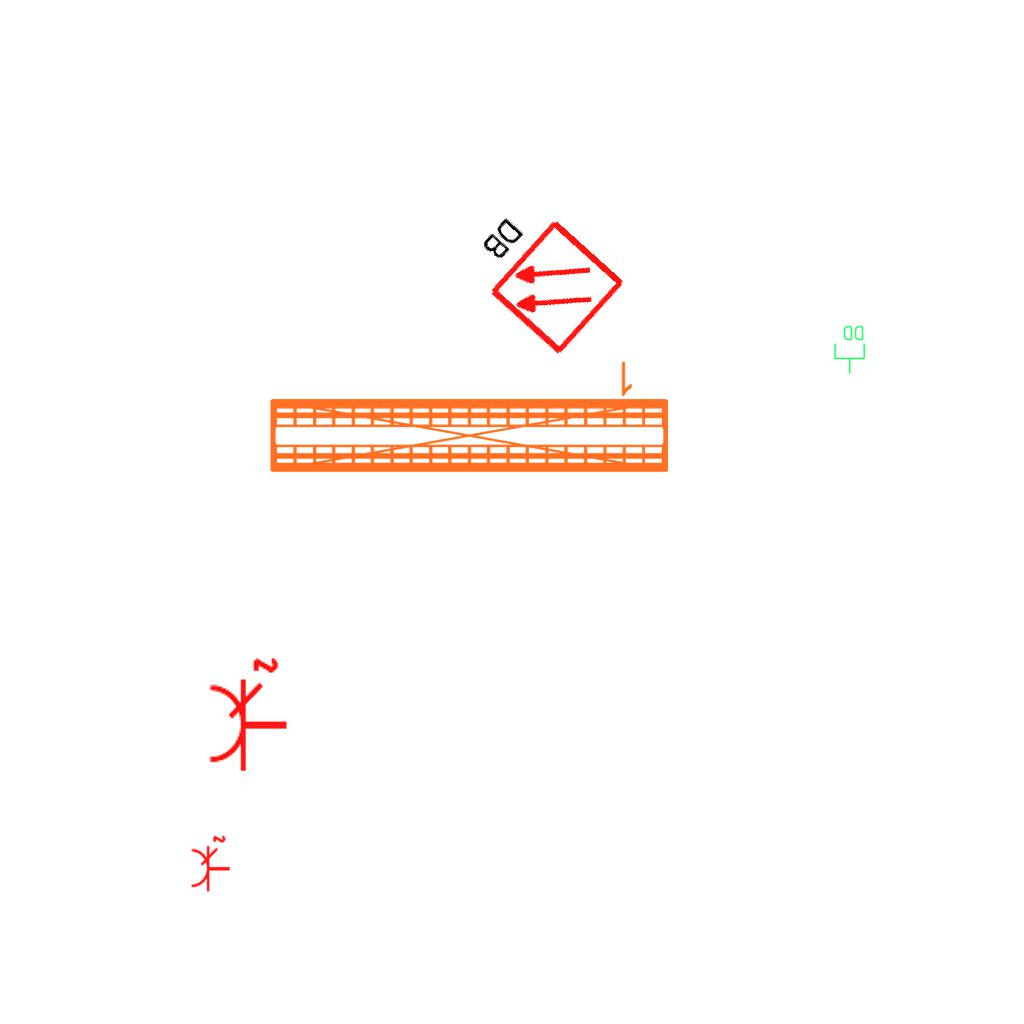Buero_Pendelleuchten_LED: (262, 352, 675, 482)
DB_Melder_in_Doppelboden_mit_Revisionsoeffnung_mind_40_x_40_cm: (447, 182, 635, 367)
Datenanschluss_zweifach: (833, 324, 867, 375)
Schukosteckdose_mehrfach: (205, 655, 293, 776), (189, 834, 233, 894)
